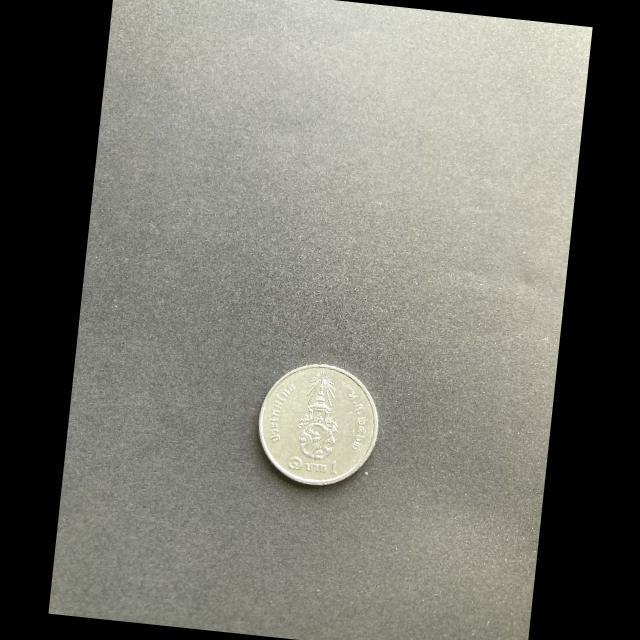1 Bath: (259, 360, 383, 495)
